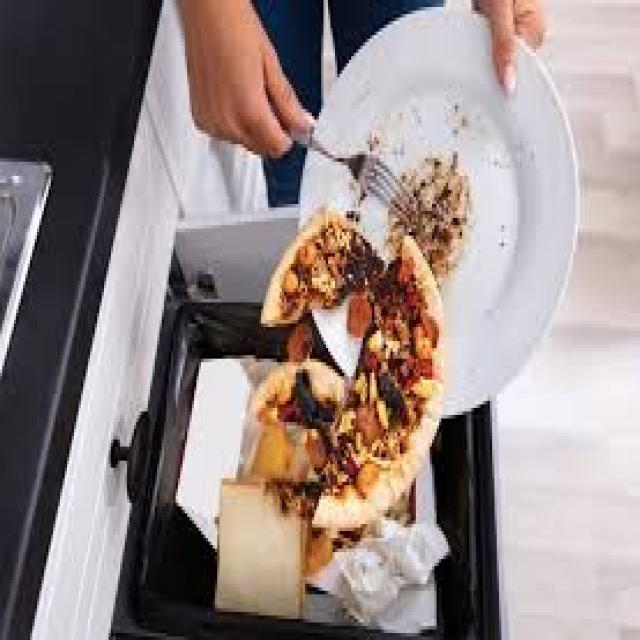Wet: (238, 187, 502, 560)
